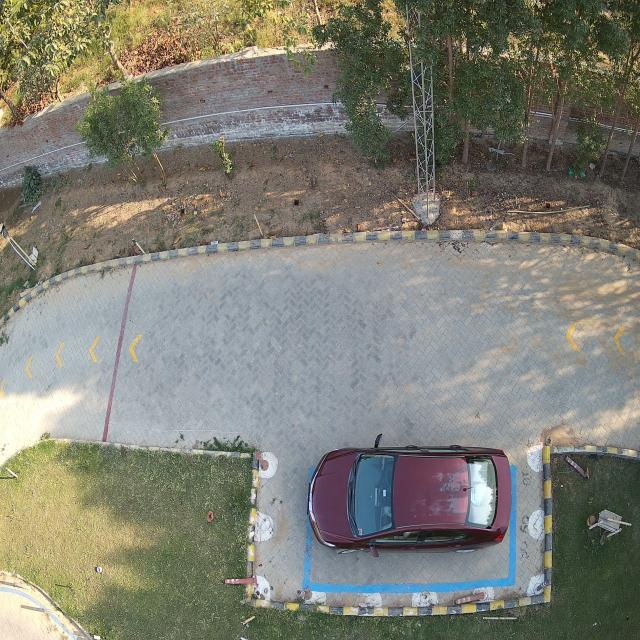car: (308, 435, 511, 557)
